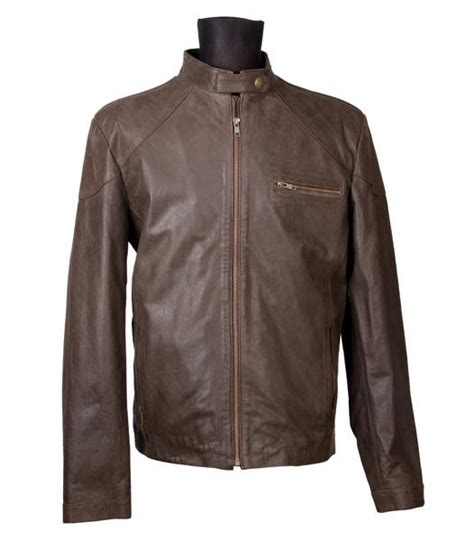cuero: (64, 48, 427, 522)
